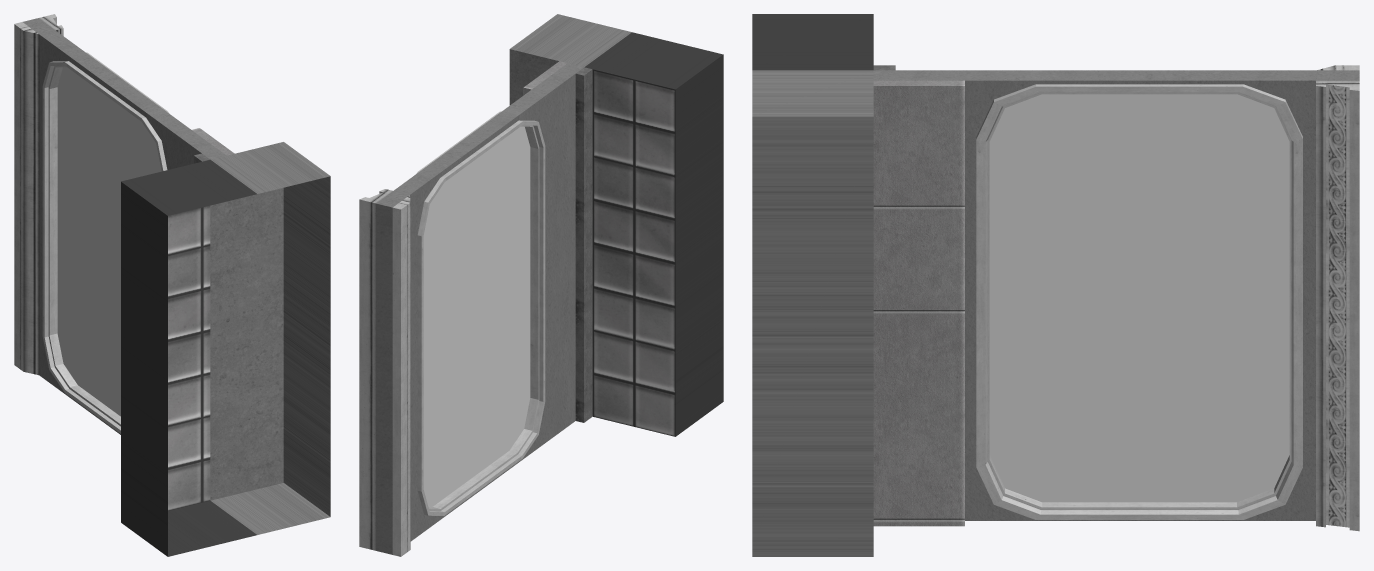
Rendered from A_ground_wall_ 4m_big_window.fbx.
3 renders of one model, left to right at view 1: azimuth 30°, elevation 25°; view 2: azimuth 150°, elevation 25°; view 3: azimuth 270°, elevation 25°, orthographic. The views are drawn at different scales.
Visible parts, largest first — view 1: A_ground_wall__4m_big_window, A_glass_012; view 2: A_ground_wall__4m_big_window, A_glass_012; view 3: A_ground_wall__4m_big_window, A_glass_012.
Part boxes in pixels (x1,y1,x2,y2): A_ground_wall__4m_big_window: (14,14,330,556); A_glass_012: (57,67,161,416); A_ground_wall__4m_big_window: (359,14,723,556); A_glass_012: (423,126,530,506); A_ground_wall__4m_big_window: (752,14,1359,556); A_glass_012: (989,94,1289,502).
Size of the model in its own units: 2 by 4 by 5.
